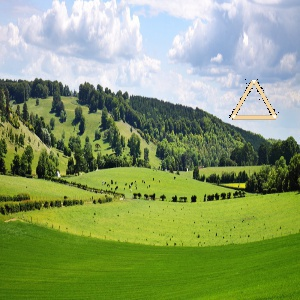triangle: (224, 77, 281, 122)
